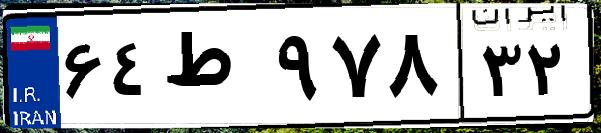2: (525, 38, 570, 115)
3: (475, 38, 525, 113)
4: (110, 28, 158, 98)
6: (57, 26, 110, 100)
7: (330, 28, 385, 110)
8: (385, 28, 445, 110)
9: (270, 28, 330, 110)
ط: (158, 20, 270, 120)
